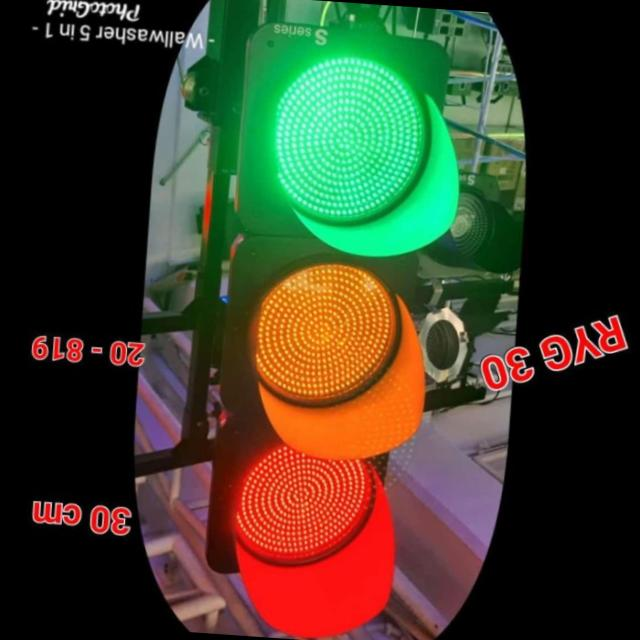green-lights: (262, 46, 429, 222)
red-lights: (236, 438, 378, 571)
yellow-lights: (248, 254, 400, 406)
